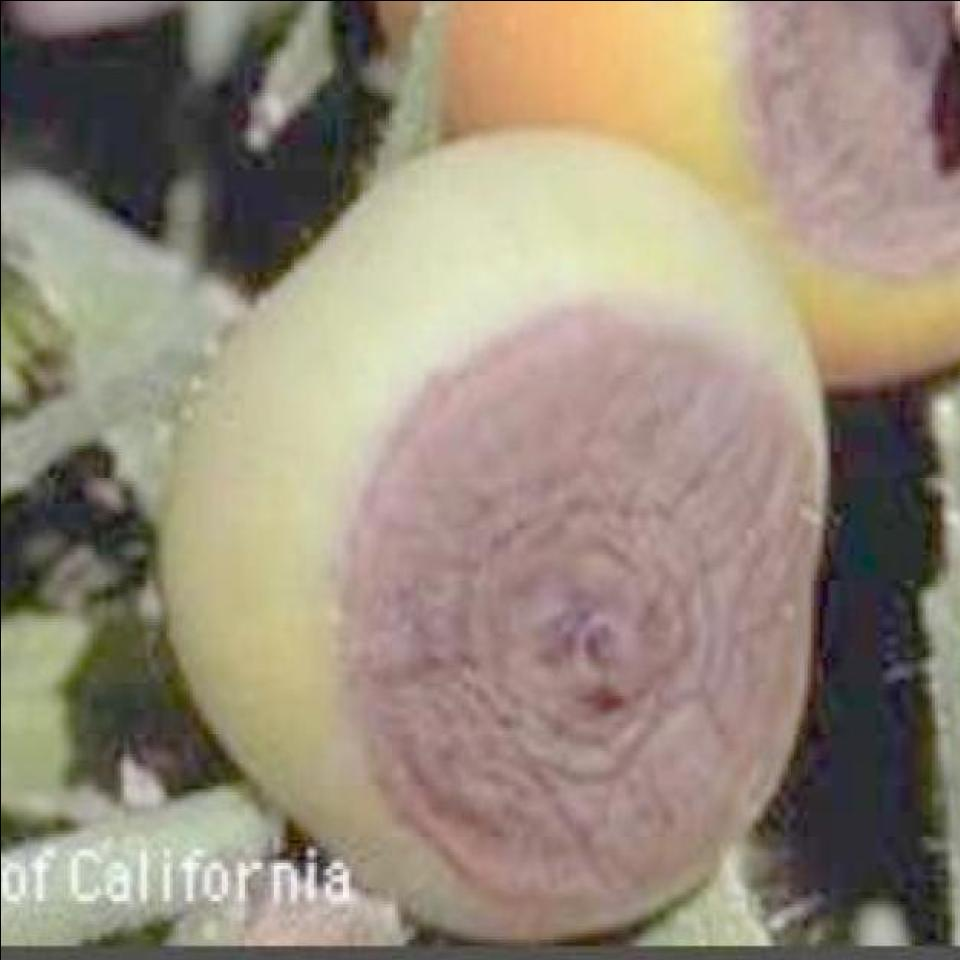Blossom_end_rot: (341, 294, 818, 916), (688, 0, 960, 265)
